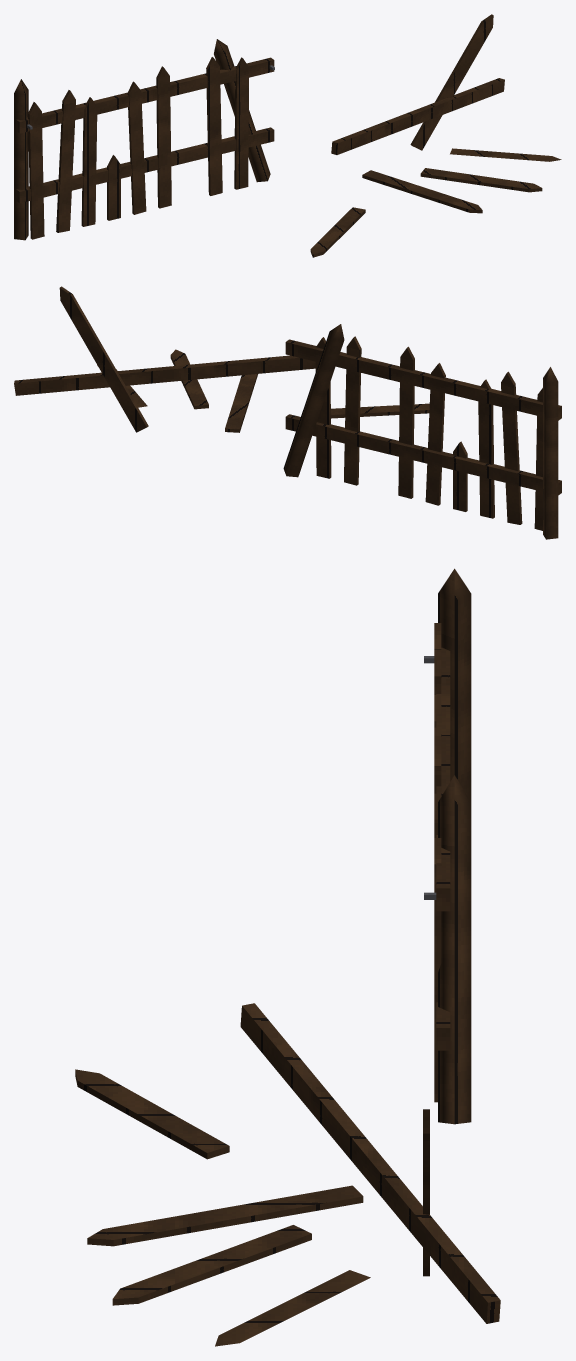
Rendered from ext_broken_fence.glb.
The picture shows the model from 3 angles, top to bottom: view 1: azimuth 30°, elevation 25°; view 2: azimuth 150°, elevation 25°; view 3: azimuth 270°, elevation 25°; orthographic projection. The views are drawn at different scales.
Visible parts, largest first — view 1: fence-col, detail; view 2: fence-col, detail; view 3: detail, fence-col.
Part boxes in pixels (left/top/right/bottom): fence-col: left=14, top=39, right=274, bottom=240; detail: left=27, top=14, right=561, bottom=257; fence-col: left=283, top=324, right=561, bottom=539; detail: left=14, top=286, right=467, bottom=511; detail: left=75, top=656, right=500, bottom=1346; fence-col: left=434, top=568, right=471, bottom=1124.
Size of what is drawn, in the model's own units: 4.12 by 1.28 by 1.52.
Materials: 2 (2 with a texture image).
